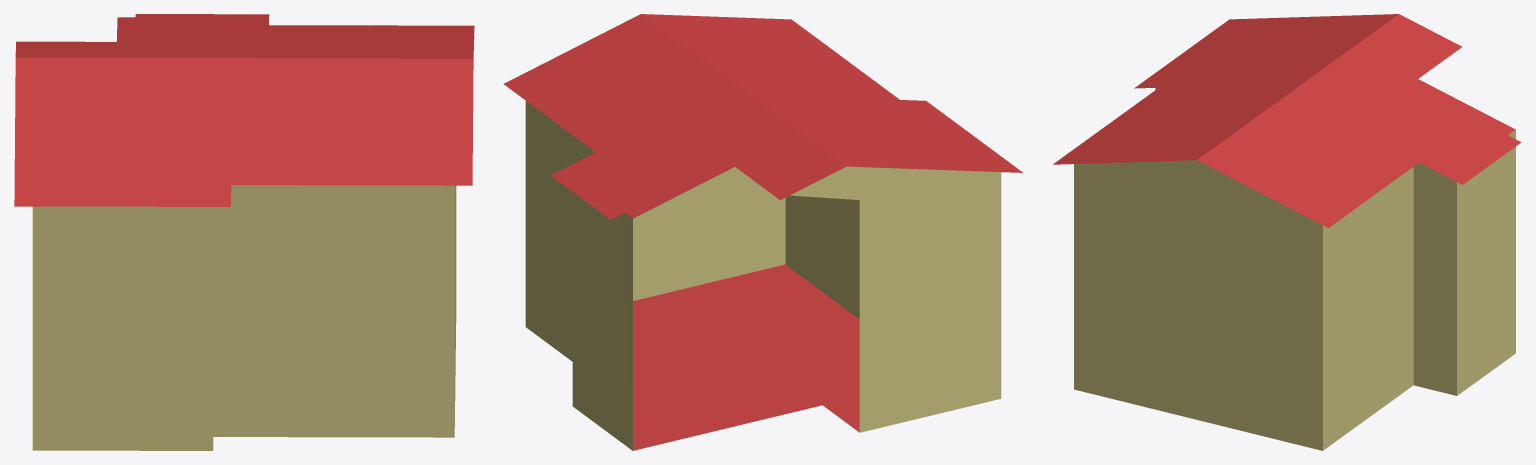
The picture shows the model from 3 angles, left to right: view 1: azimuth 30°, elevation 25°; view 2: azimuth 150°, elevation 25°; view 3: azimuth 270°, elevation 25°; orthographic projection. The views are drawn at different scales.
Size of the model in its own units: 16.6 by 14.92 by 9.38.
